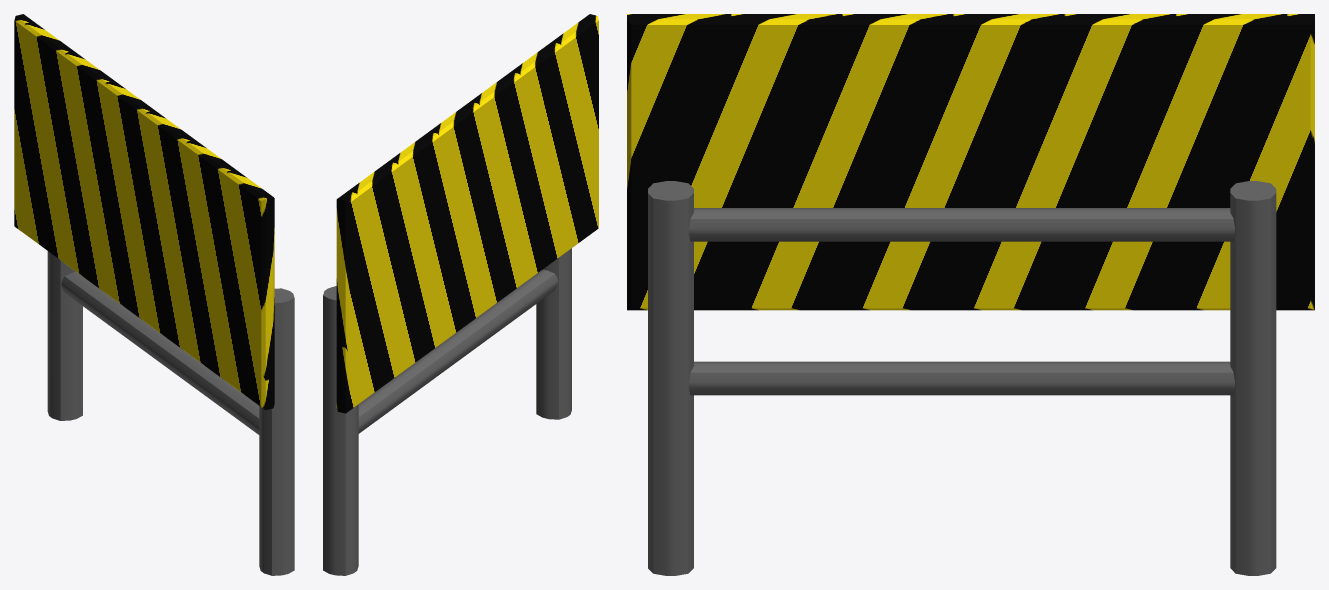
File: Yellow Obstalce.fbx
3 views of the same model, side by side, from view 1: azimuth 30°, elevation 25°; view 2: azimuth 150°, elevation 25°; view 3: azimuth 270°, elevation 25° (orthographic). The views are drawn at different scales.
Visible parts, largest first — view 1: pCube5, pCube3, pCube4, pCube2; view 2: pCube5, pCube2, pCube4, pCube3; view 3: pCube5, pCube4, pCube6, pCube2, pCube3.
Part boxes in pixels (left/top/right/bottom): pCube5: left=14, top=14, right=274, bottom=410; pCube3: left=259, top=288, right=294, bottom=575; pCube4: left=61, top=272, right=259, bottom=434; pCube2: left=47, top=251, right=82, bottom=420; pCube5: left=336, top=14, right=598, bottom=413; pCube2: left=323, top=286, right=358, bottom=575; pCube4: left=358, top=269, right=557, bottom=433; pCube3: left=536, top=248, right=571, bottom=419; pCube5: left=627, top=14, right=1314, bottom=310; pCube4: left=689, top=361, right=1234, bottom=395; pCube6: left=689, top=208, right=1234, bottom=241; pCube2: left=1230, top=181, right=1276, bottom=575; pCube3: left=648, top=181, right=693, bottom=575.
Bounding box in the file's own units: 0.5227 × 4.35 × 5.08.
2 materials, 1 textured.
